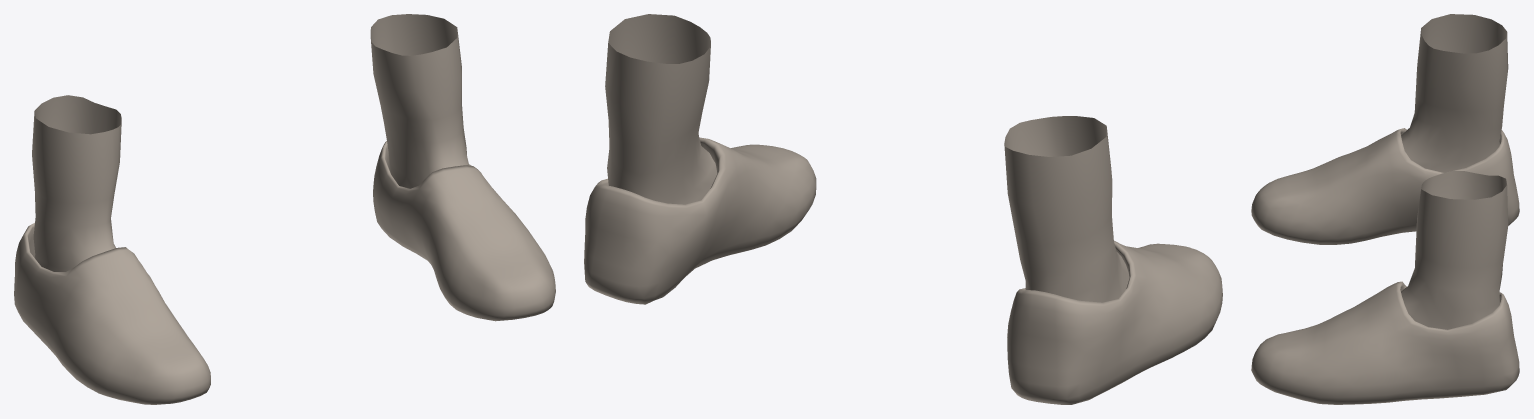
The model's file is shoes05.glb.
3 views of the same model, side by side, from view 1: azimuth 30°, elevation 25°; view 2: azimuth 150°, elevation 25°; view 3: azimuth 270°, elevation 25° (orthographic). The views are drawn at different scales.
Parts seen in each view (by area): view 1: shoes05; view 2: shoes05; view 3: shoes05.
Part boxes in pixels (x1,y1,x2,y2): shoes05: (14, 14, 555, 404); shoes05: (584, 14, 1222, 404); shoes05: (1251, 14, 1519, 404).
Bounding box in the file's own units: 0.4993 × 0.2255 × 0.2707.
